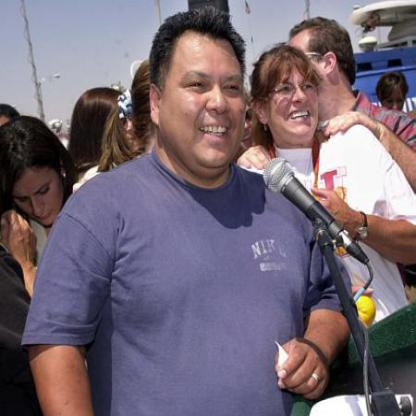face: (160, 17, 255, 174), (265, 48, 321, 143), (9, 148, 65, 230)
